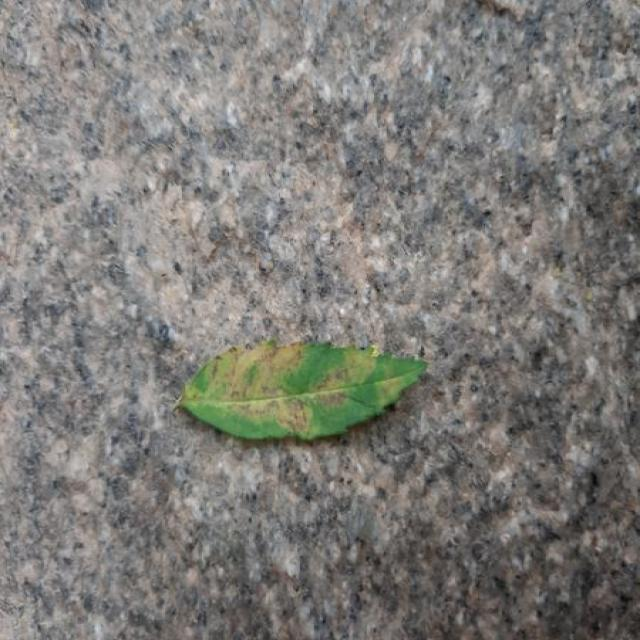botryis blight: (178, 341, 427, 440)
marigold: (178, 341, 427, 439)
